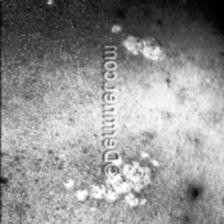Non-Cancerous Skin Condition: (72, 154, 162, 208), (122, 32, 164, 64), (107, 22, 122, 34), (45, 1, 55, 6), (62, 181, 72, 186)
